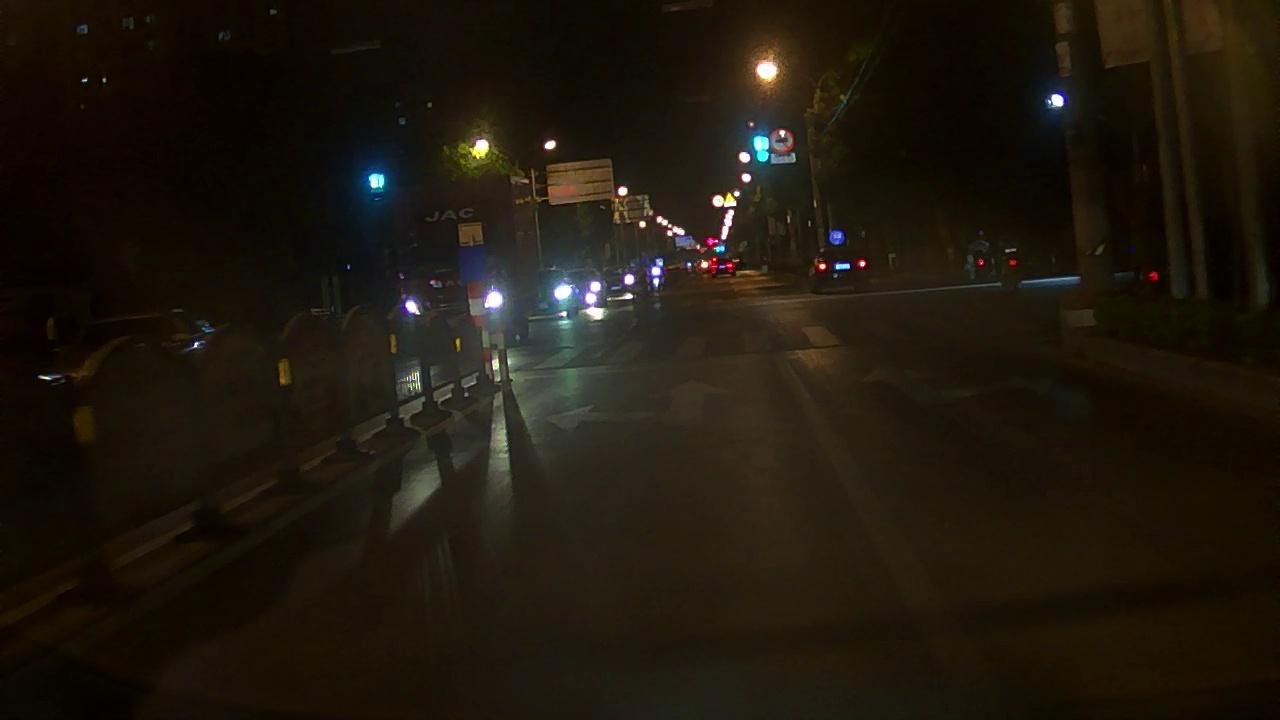traffic_light: (750, 129, 775, 173), (366, 168, 393, 193)
